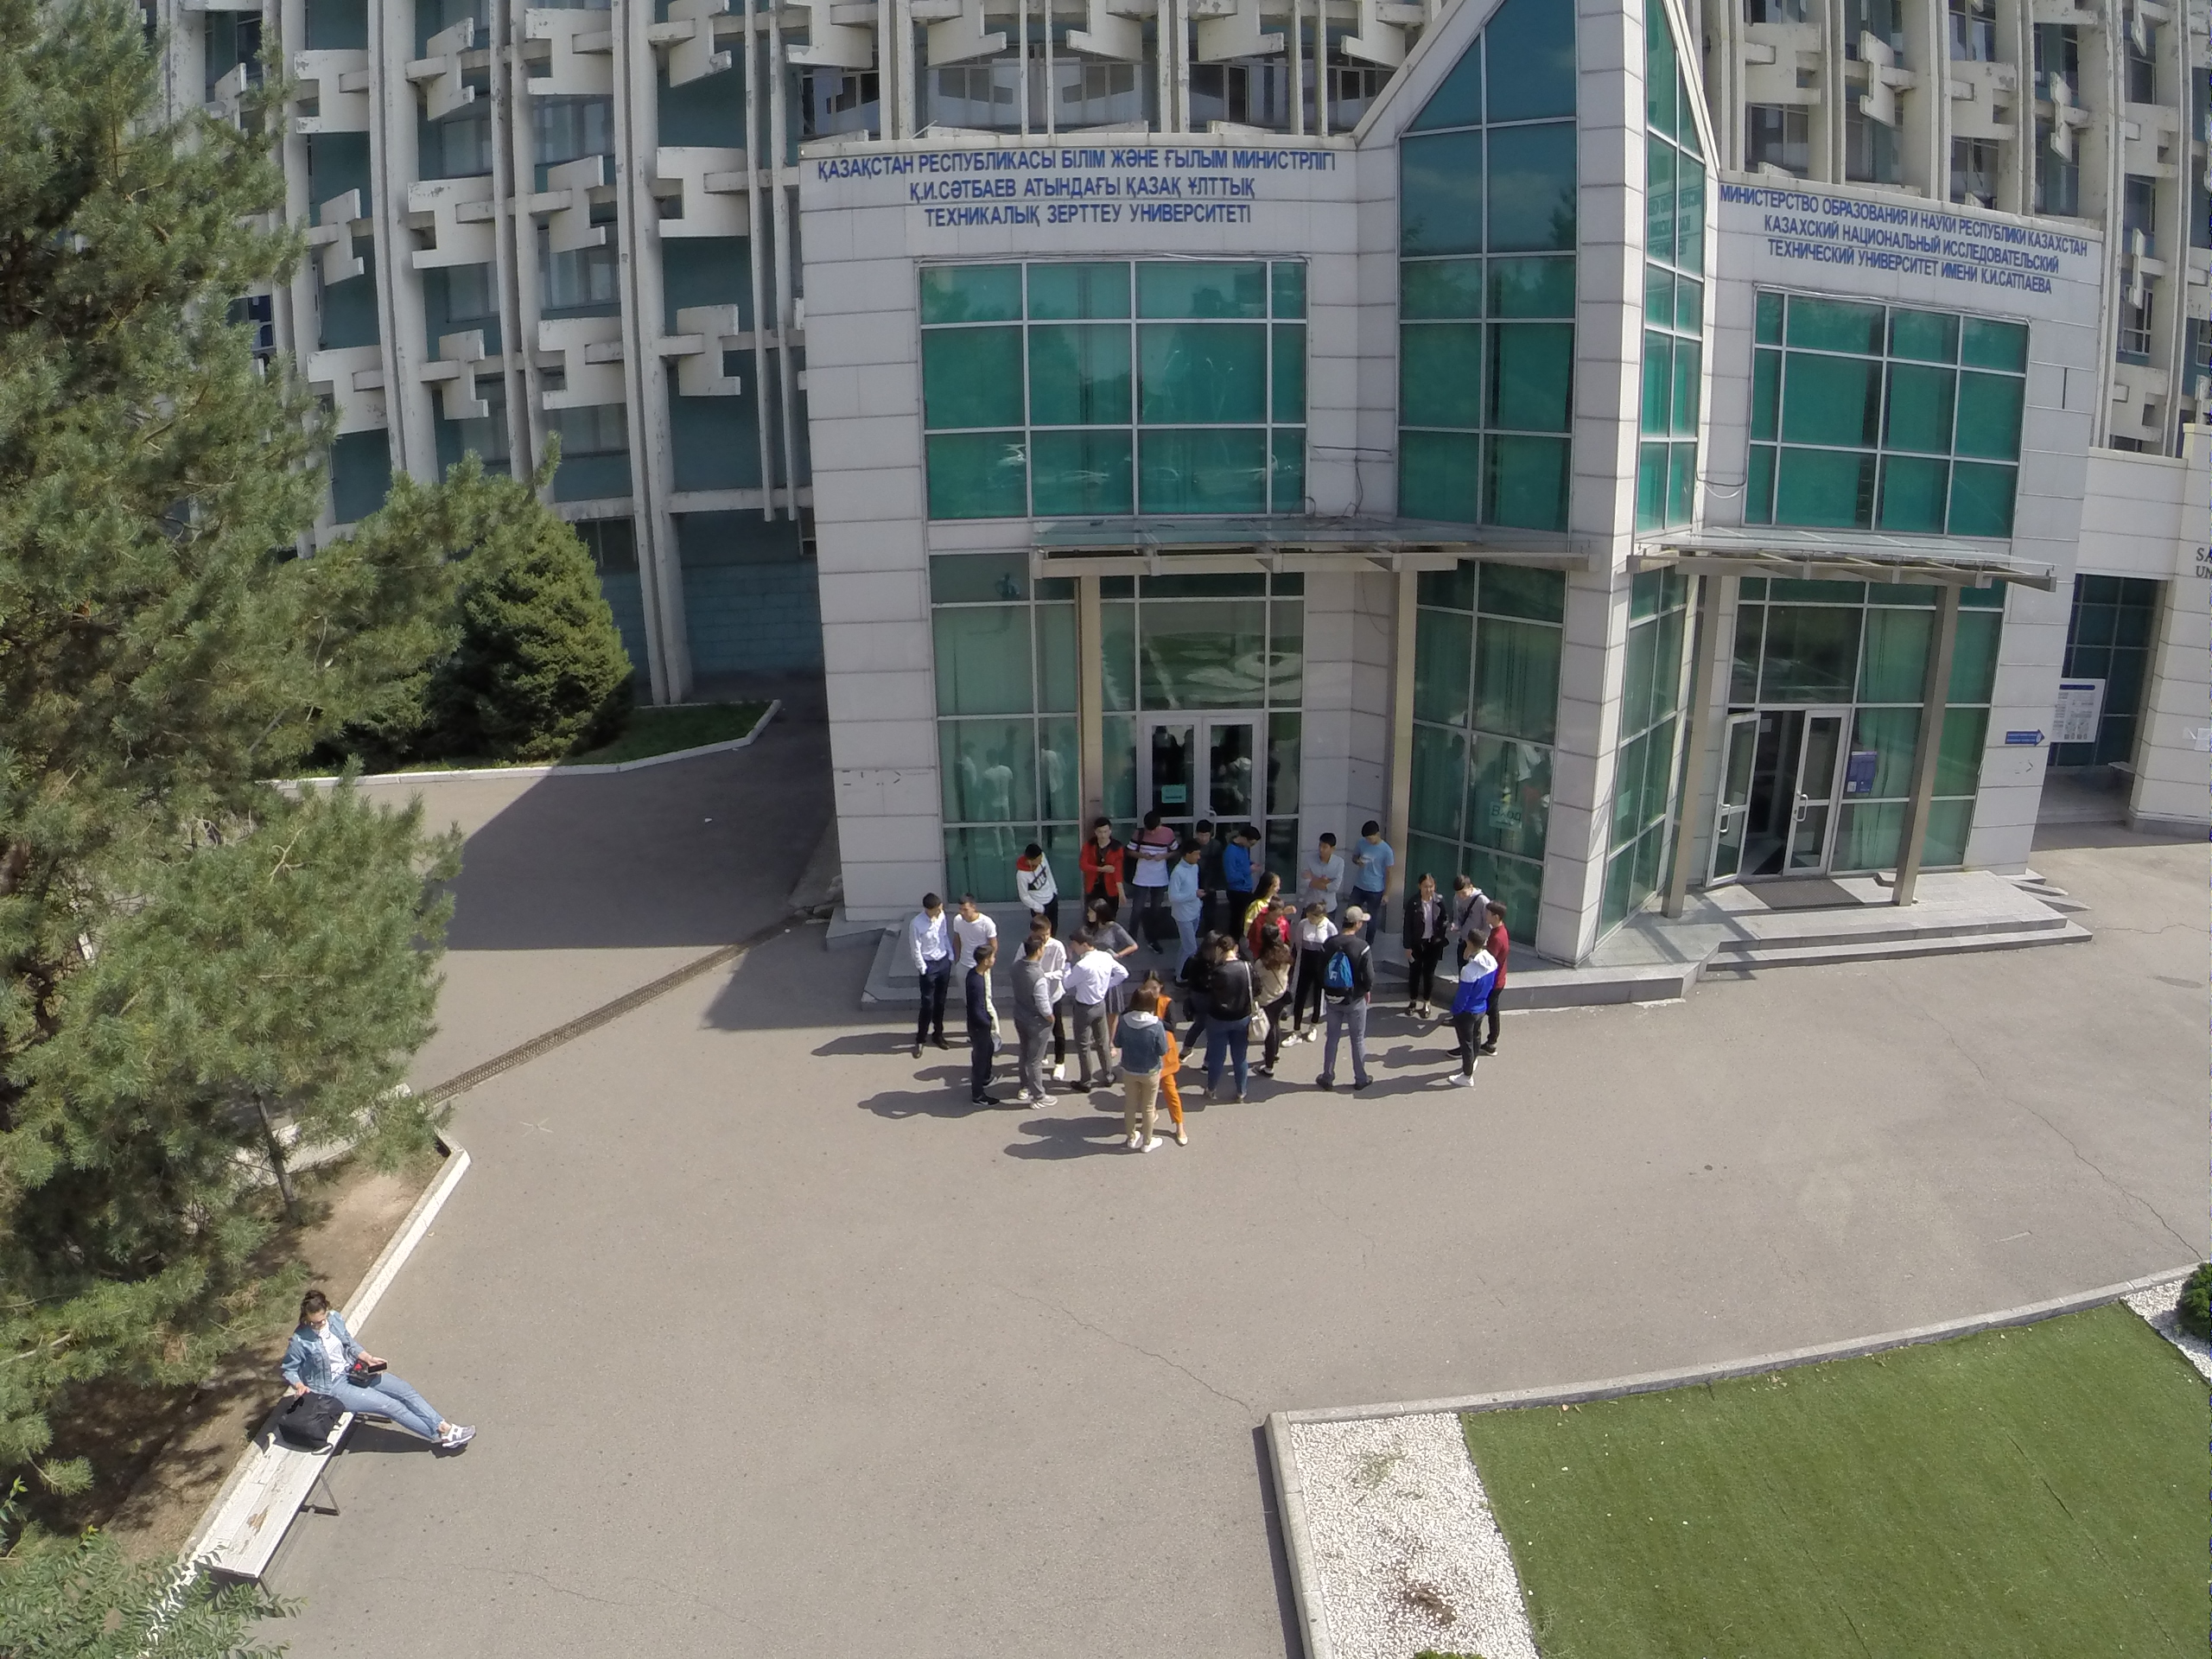person: (262, 1287, 483, 1470), (1319, 908, 1378, 1097), (1007, 937, 1063, 1116), (1200, 932, 1256, 1104), (1119, 989, 1175, 1156), (1442, 925, 1495, 1097), (906, 886, 954, 1064), (956, 943, 1003, 1116), (1287, 895, 1336, 1052), (1402, 873, 1451, 1026), (1071, 931, 1110, 1099), (1481, 903, 1519, 1059), (1125, 802, 1169, 922), (1010, 829, 1063, 928), (1355, 817, 1395, 935), (1077, 817, 1127, 910), (1255, 921, 1284, 1084), (1084, 899, 1141, 965), (1225, 819, 1261, 918), (1306, 829, 1344, 916), (1174, 844, 1200, 960), (951, 891, 996, 953), (1450, 869, 1486, 941), (1193, 810, 1219, 893)
